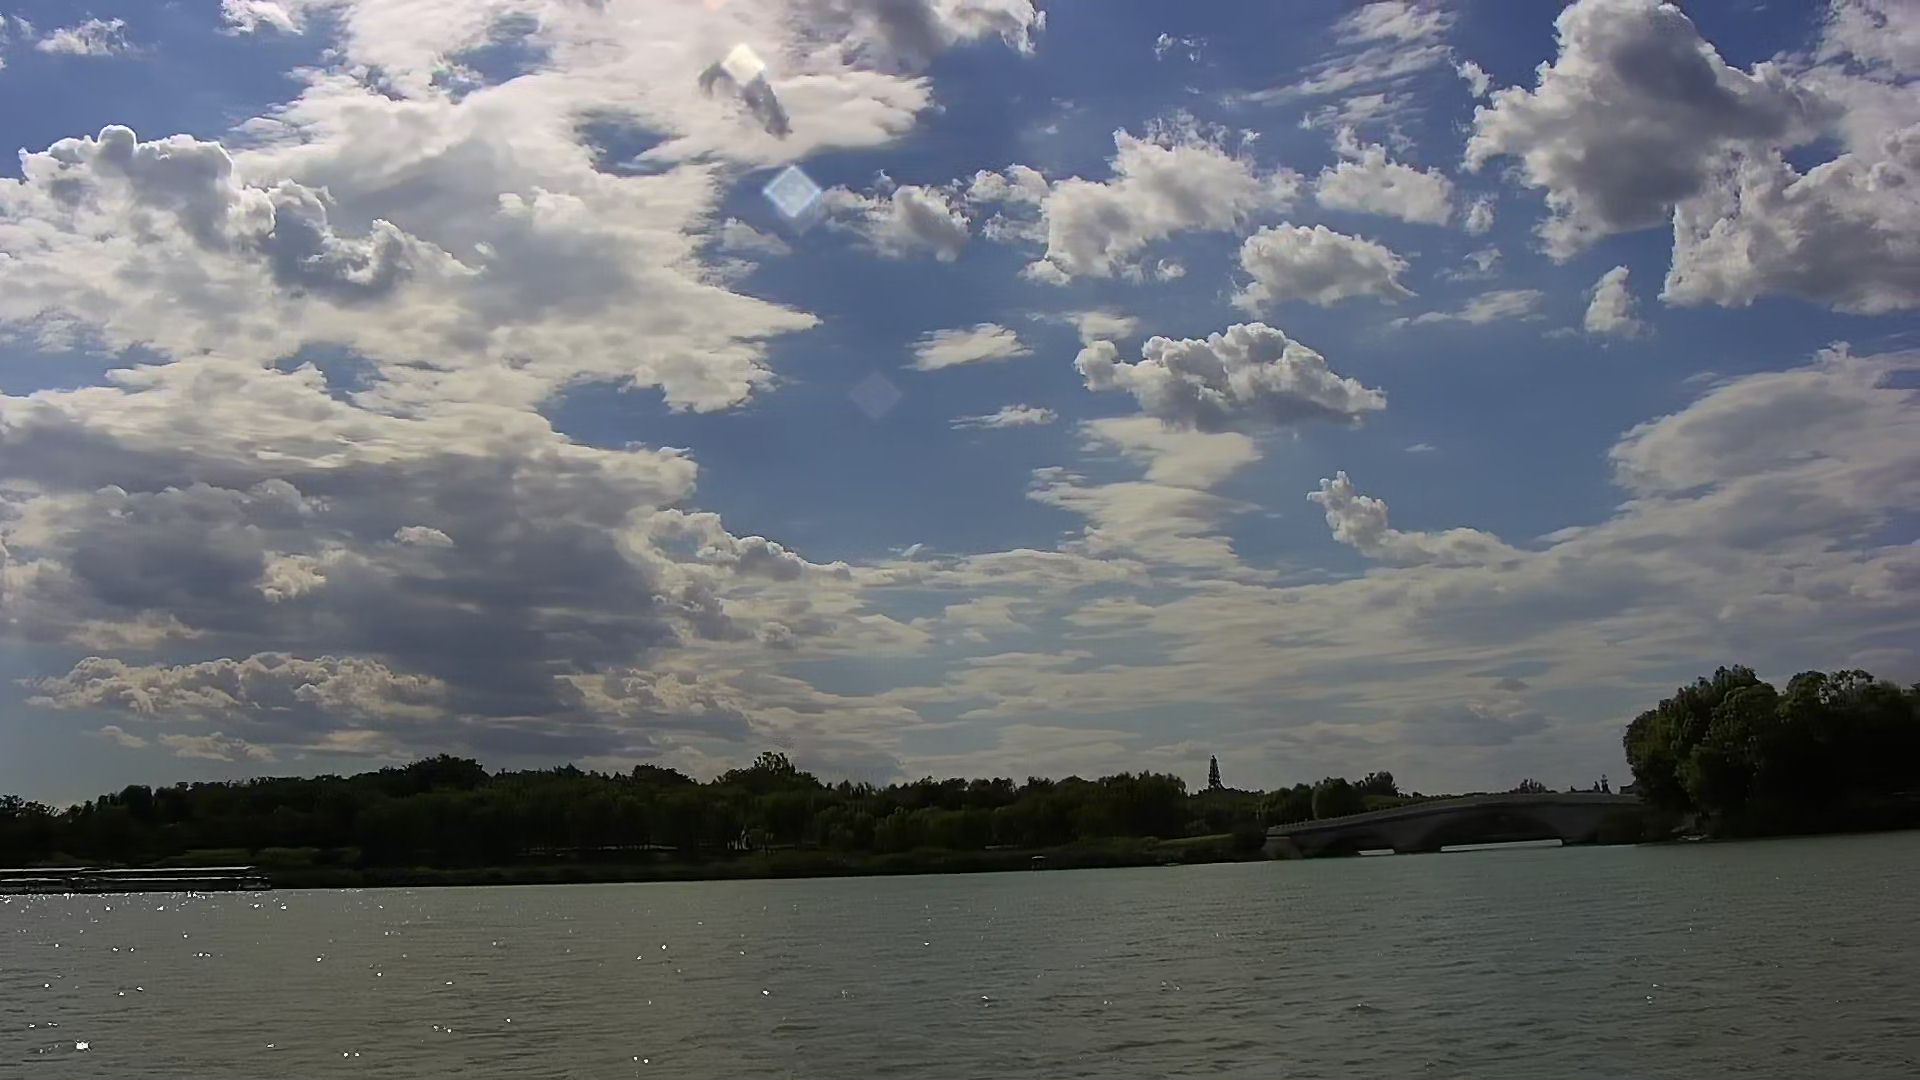bridge: (1269, 794, 1658, 856)
harbor: (1, 860, 273, 899)
